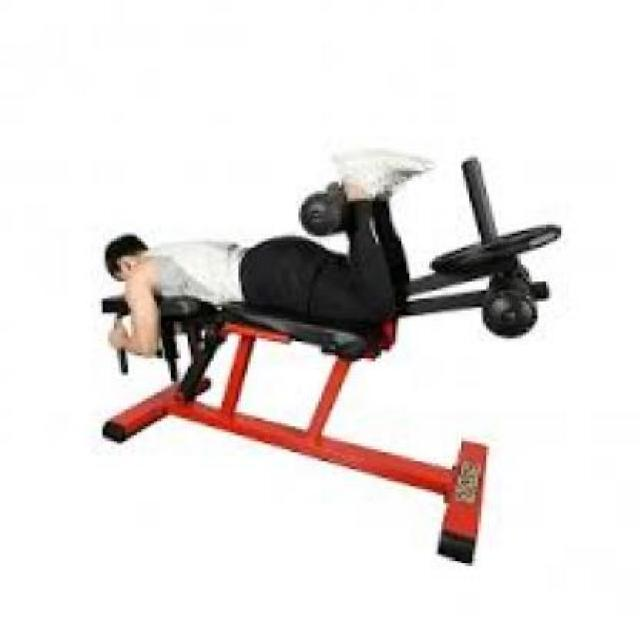reg curl machine: (95, 148, 568, 566)
